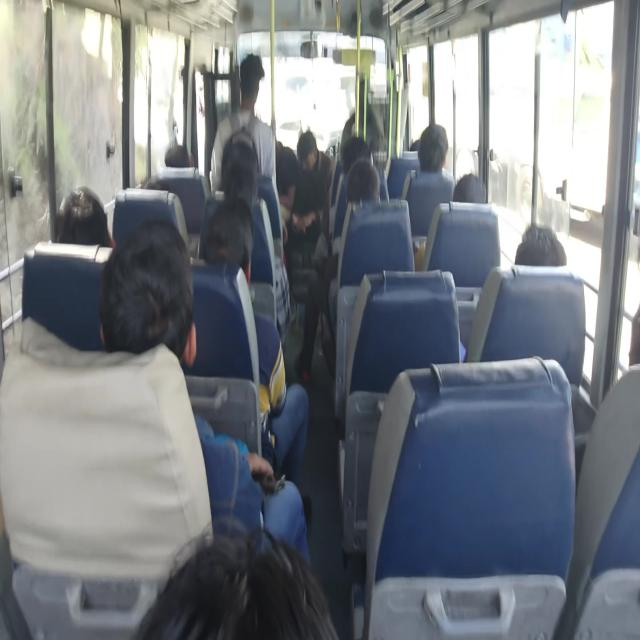person: (99, 217, 310, 565), (201, 196, 309, 486), (133, 524, 339, 639), (294, 158, 381, 381), (219, 135, 291, 350), (462, 222, 567, 360), (210, 53, 277, 196), (404, 122, 455, 237), (289, 130, 334, 253), (56, 185, 114, 248), (296, 130, 334, 194), (417, 123, 455, 185), (514, 222, 567, 266), (452, 172, 486, 204)
